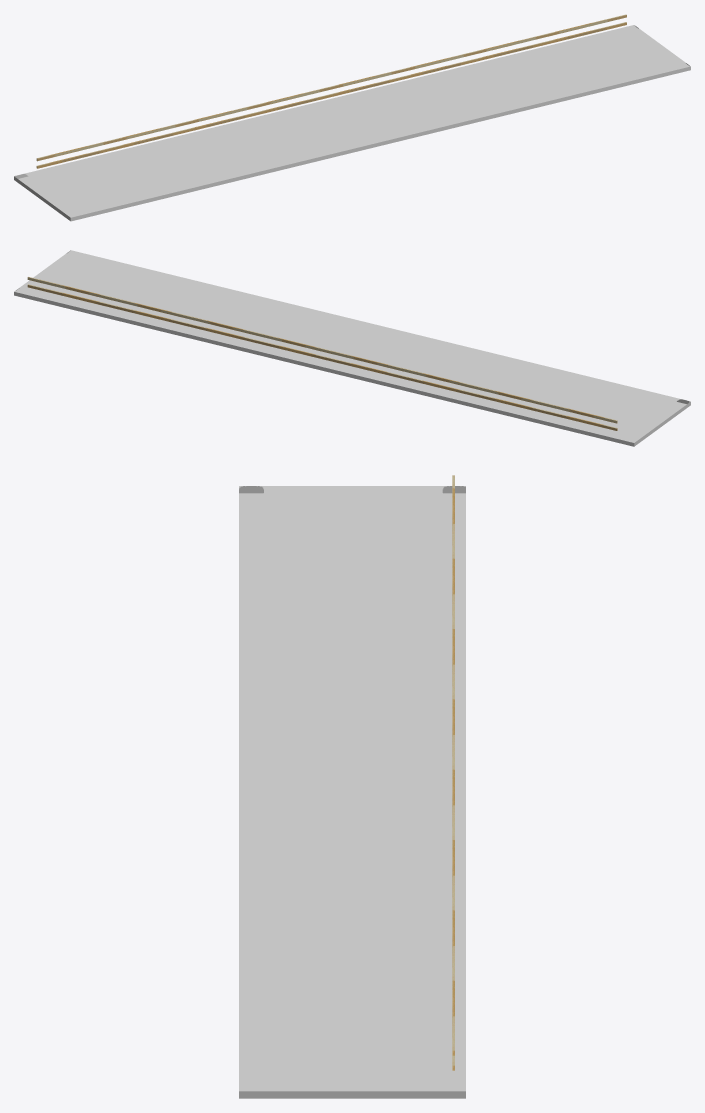
Rendered from Badack.fbx.
3 renders of one model, top to bottom at view 1: azimuth 30°, elevation 25°; view 2: azimuth 150°, elevation 25°; view 3: azimuth 270°, elevation 25°, orthographic. The views are drawn at different scales.
Visible parts, largest first — view 1: ID86, ID678, ID665; view 2: ID86, ID678, ID665; view 3: ID86, ID678.
Boxes of the visible parts, x1,y1,x2,y2 form: ID86: (14, 25, 690, 221); ID678: (36, 14, 626, 161); ID665: (36, 22, 626, 168); ID86: (14, 250, 690, 446); ID678: (27, 277, 617, 423); ID665: (27, 284, 617, 430); ID86: (239, 486, 465, 1098); ID678: (452, 475, 454, 1055).
Size of the model in its own units: 1033 by 30 by 164.
Materials: 1 (1 with a texture image).
